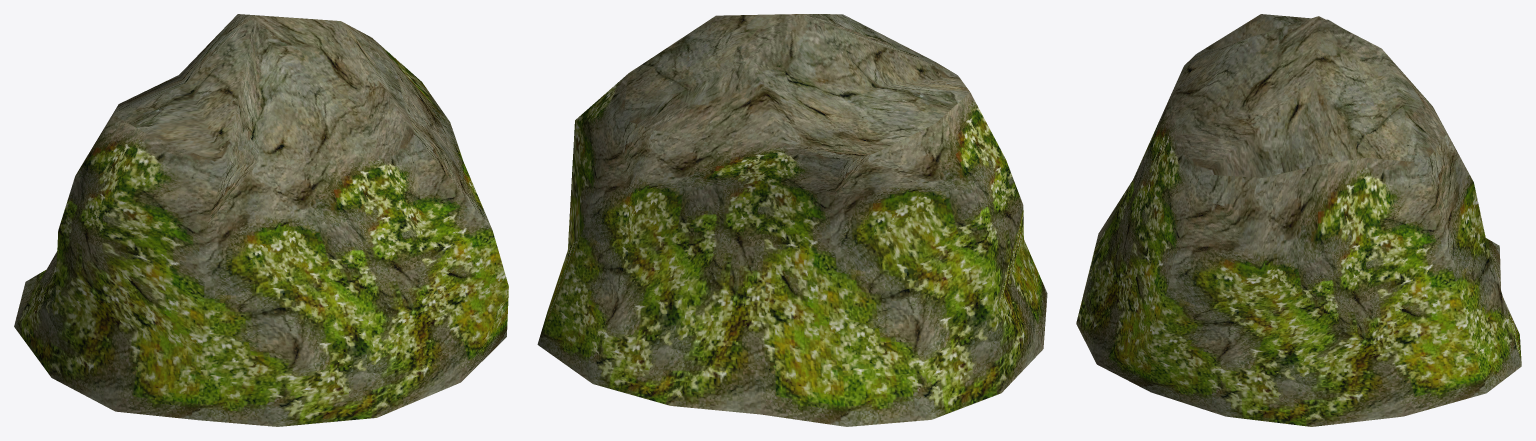
Rendered from rock_liaaba_covered_l1.fbx.
3 views of the same model, side by side, from view 1: azimuth 30°, elevation 25°; view 2: azimuth 150°, elevation 25°; view 3: azimuth 270°, elevation 25° (orthographic). The views are drawn at different scales.
Parts seen in each view (by area): view 1: mesh_node; view 2: mesh_node; view 3: mesh_node.
Boxes of the visible parts, box(x1,y1,x2,y2) form: mesh_node: box(14, 14, 508, 426); mesh_node: box(537, 14, 1047, 426); mesh_node: box(1076, 14, 1521, 426).
Bounding box in the file's own units: 3.4 × 2.48 × 3.21.
